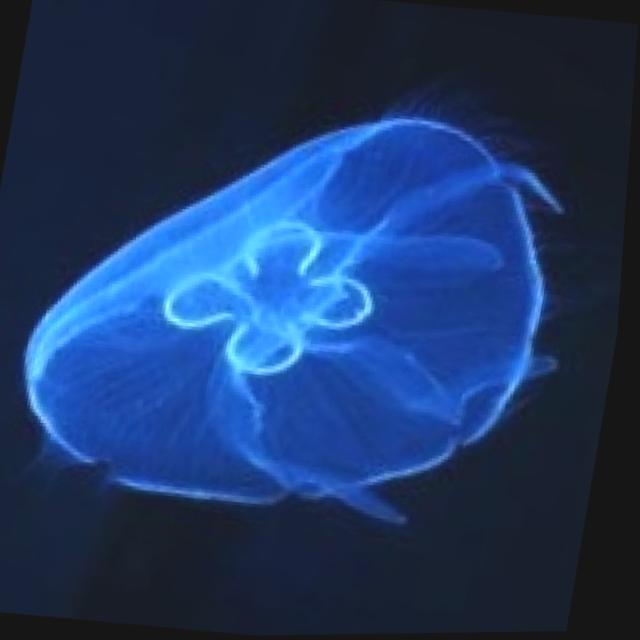Moon-jellyfish: (0, 68, 606, 545)
